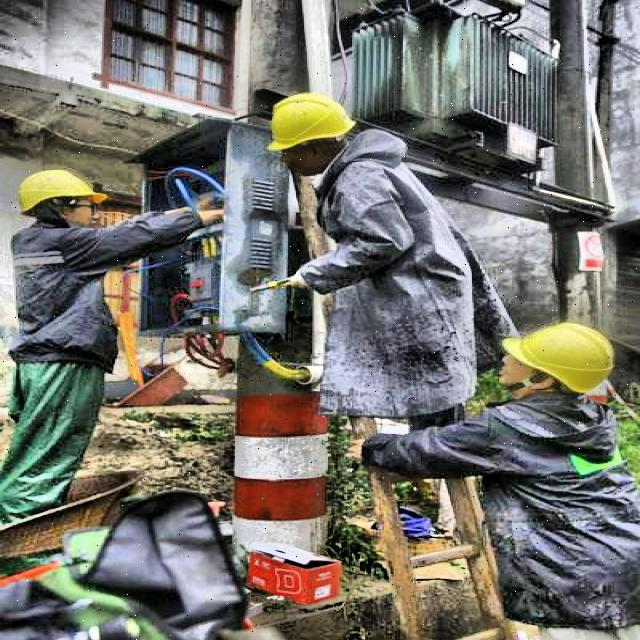helmet: (490, 318, 624, 410), (260, 84, 362, 188), (6, 163, 116, 230)
